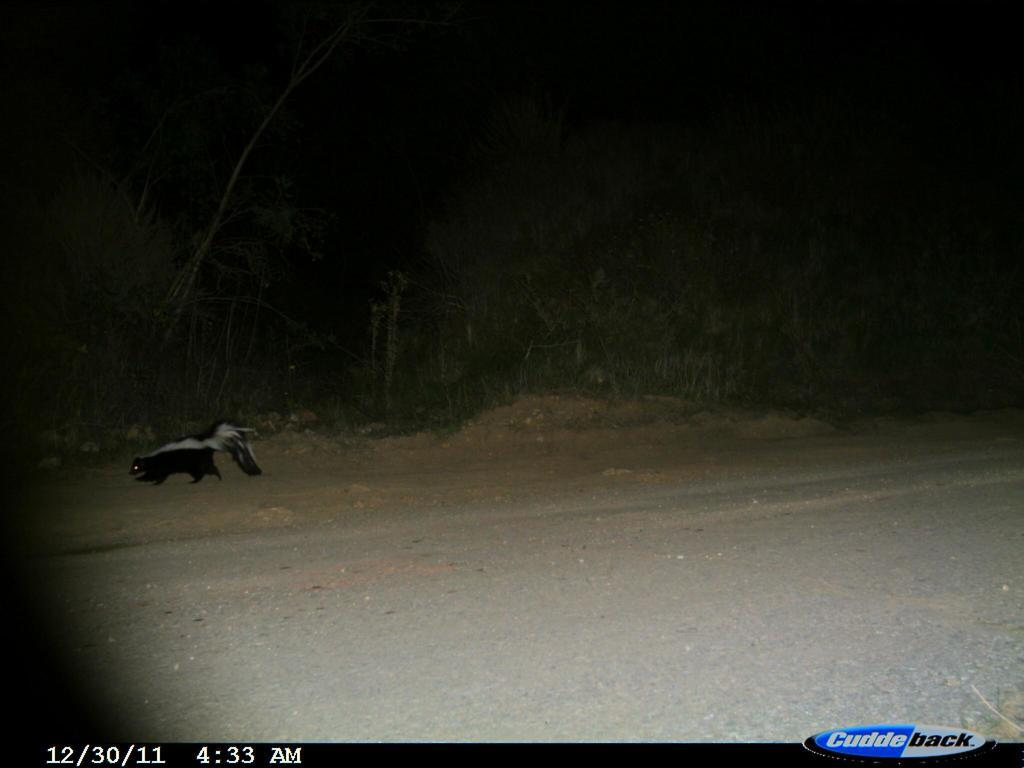skunk: (123, 409, 277, 497)
